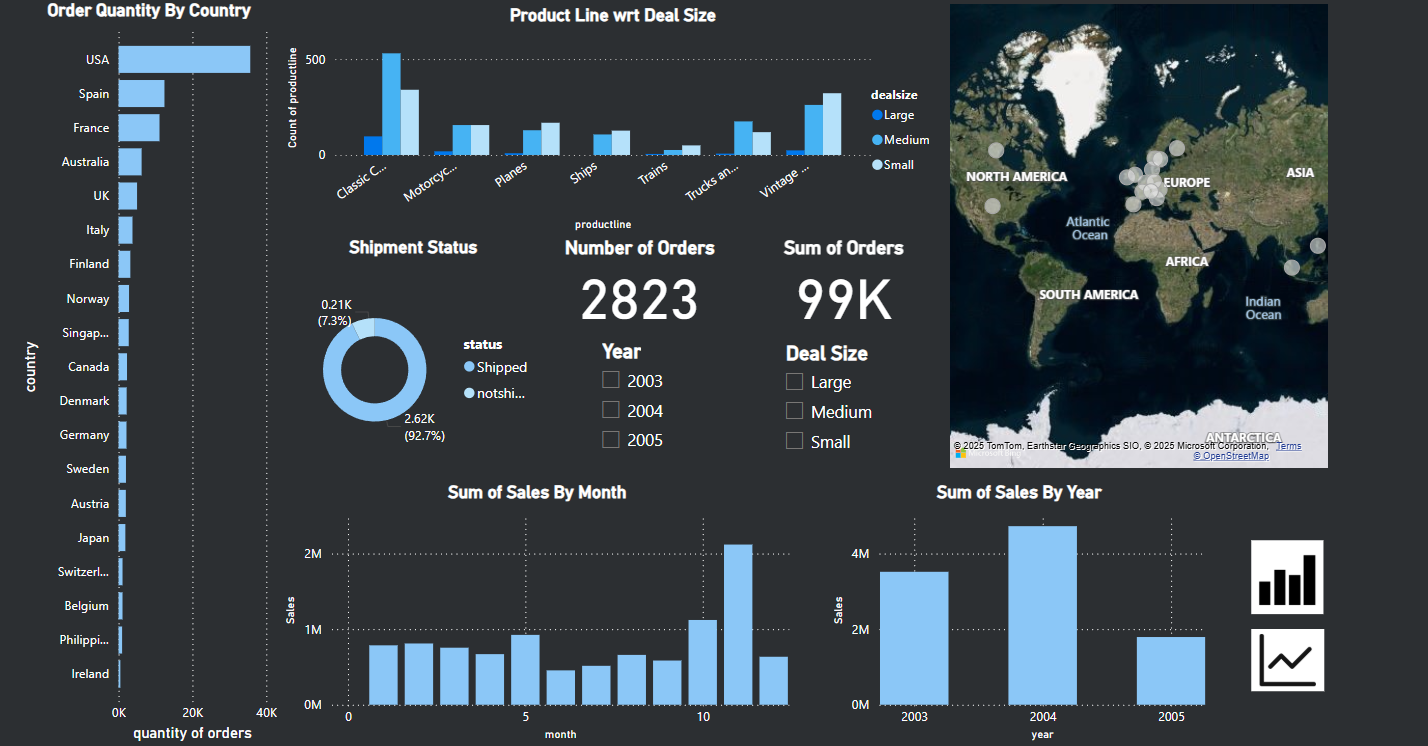

What the dashboard file says about the page in this screenshot:
{"tool":"powerbi","page":{"name":"Page 1","canvas":[1280,720],"ordinal":0},"visuals":[{"type":"barChart","title":"Order Quantity By Country","fields":{"Category":["retail_dataset_cleaned.country"],"Y":["Sum(retail_dataset_cleaned.quantityordered)"]},"box":[10.3,0,256.2,720.3],"z":0},{"type":"donutChart","title":"Shipment Status","fields":{"Category":["retail_dataset_cleaned.status"],"Y":["CountNonNull(retail_dataset_cleaned.status)"]},"box":[266.6,228.5,254.6,236.6],"z":1000},{"type":"columnChart","title":"Sum of Sales By Year","fields":{"Category":["retail_dataset_cleaned.year_id"],"Y":["Sum(retail_dataset_cleaned.sales)"]},"box":[792.3,465.1,369.4,255.2],"z":2000},{"type":"columnChart","title":"Sum of Sales By Month","fields":{"Category":["retail_dataset_cleaned.month_id"],"Y":["Sum(retail_dataset_cleaned.sales)"]},"box":[265.5,465.1,495.9,255.2],"z":3000},{"type":"map","title":"Geographic Location of Each Country","fields":{"Category":["retail_dataset_cleaned.country"]},"box":[906.1,0,373.9,457.1],"z":4000},{"type":"card","title":"Number of Orders","fields":{"Values":["CountNonNull(retail_dataset_cleaned.ordernumber)"]},"box":[513.2,228.5,197.5,85.2],"z":5000},{"type":"clusteredColumnChart","title":"Product Line wrt Deal Size","fields":{"Category":["retail_dataset_cleaned.productline"],"Y":["CountNonNull(retail_dataset_cleaned.productline)"],"Series":["retail_dataset_cleaned.dealsize"]},"box":[266.6,5,639.5,223.5],"z":6000},{"type":"slicer","fields":{"Values":["retail_dataset_cleaned.year_id"]},"box":[562.3,323.8,131.3,139.3],"z":7000},{"type":"slicer","fields":{"Values":["retail_dataset_cleaned.dealsize"]},"box":[739.7,324.8,138.3,138.3],"z":8000},{"type":"image","box":[1201.8,521.7,70,71],"z":9000},{"type":"image","box":[1201.8,607.4,70.2,60.1],"z":10000},{"type":"card","title":"Sum of Orders","fields":{"Values":["Sum(retail_dataset_cleaned.quantityordered)"]},"box":[710.7,228.5,195.5,85.2],"z":13000}]}

Visuals, with their boxes on the page's 1280x720 design canvas (x1, y1, x2, y2). These are canvas units, not pixel positions in the 1428x746 screenshot, which may show the page scaled, cropped or inside an application window:
"Order Quantity By Country" barChart: left=10, top=0, right=266, bottom=720
"Shipment Status" donutChart: left=267, top=228, right=521, bottom=465
"Sum of Sales By Year" columnChart: left=792, top=465, right=1162, bottom=720
"Sum of Sales By Month" columnChart: left=266, top=465, right=761, bottom=720
"Geographic Location of Each Country" map: left=906, top=0, right=1280, bottom=457
"Number of Orders" card: left=513, top=228, right=711, bottom=314
"Product Line wrt Deal Size" clusteredColumnChart: left=267, top=5, right=906, bottom=228
slicer - retail_dataset_cleaned.year_id: left=562, top=324, right=694, bottom=463
slicer - retail_dataset_cleaned.dealsize: left=740, top=325, right=878, bottom=463
image: left=1202, top=522, right=1272, bottom=593
image: left=1202, top=607, right=1272, bottom=668
"Sum of Orders" card: left=711, top=228, right=906, bottom=314
